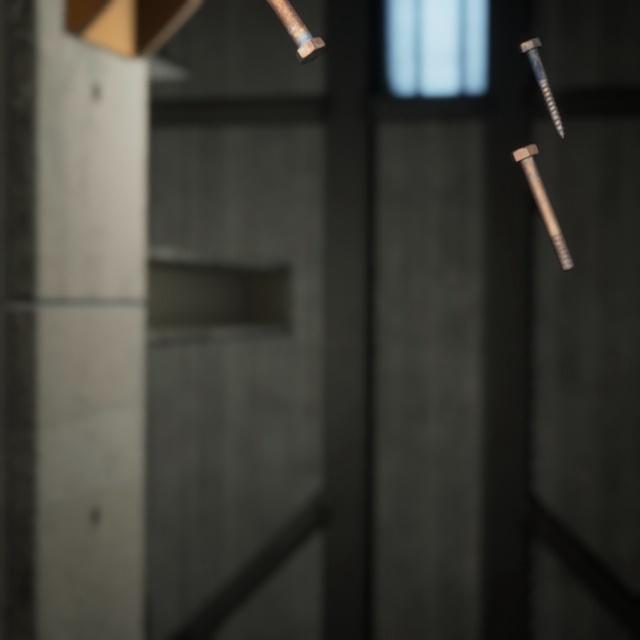bolt: (505, 124, 579, 260), (513, 22, 569, 132), (265, 0, 330, 61)
